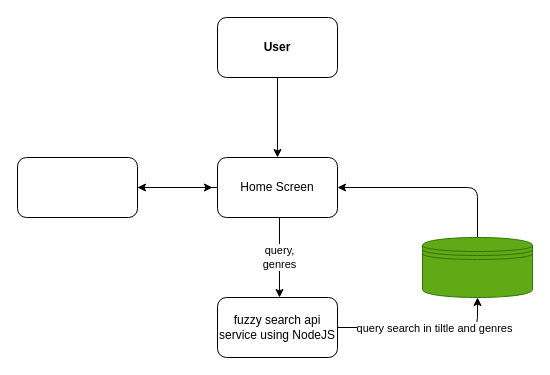
Some shapes in this 550 by 375 pixel diagram are drawn without their labels. The shapes that lost their labels are listed below. From the top down, each one's centre as x and y in pixels, then its label:
At pixel 77 187: "Login/ SignUp".
At pixel 477 267: "embedded_movies".
